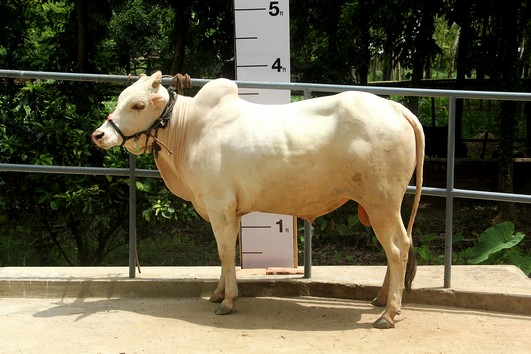cow: (87, 62, 434, 336)
